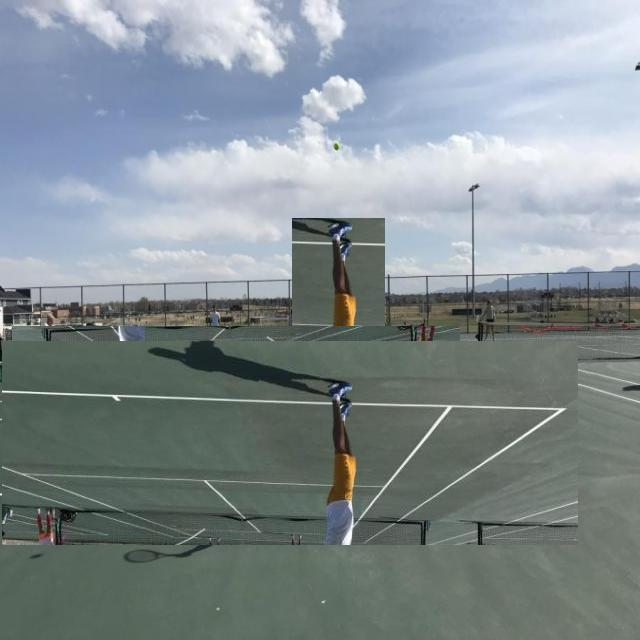court: (2, 341, 578, 545)
net: (12, 326, 460, 368)
player: (292, 218, 385, 508)
